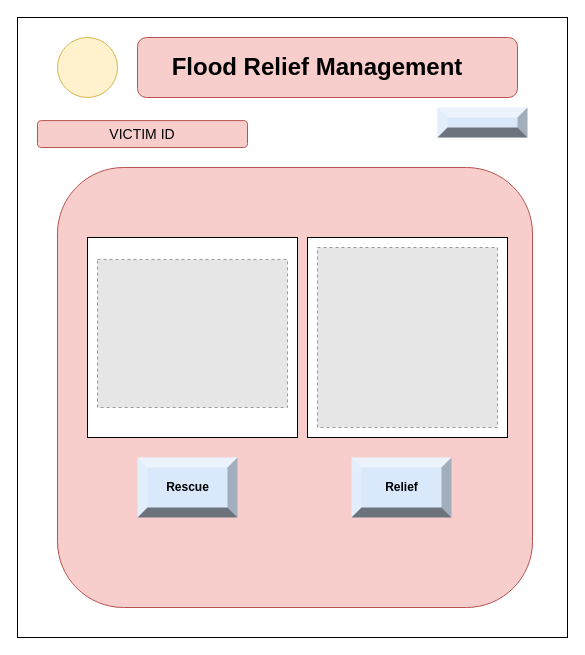
Image size: 585x655. Some labels were removed from this diagram. Grey dashed boxes stand in for pictures. Here are the shapes that lost their labels. From the top down, the centre of each, then its label:
(x=87, y=67): LOGO
(x=482, y=122): Back
